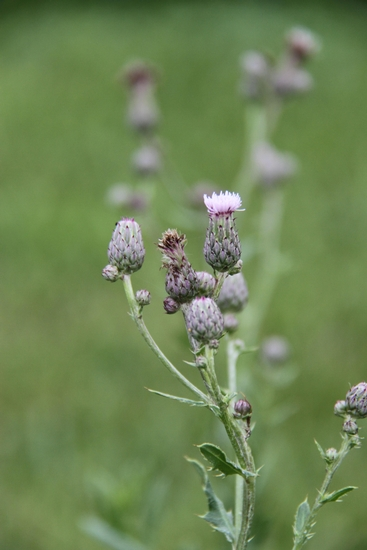thistle: (200, 188, 254, 272)
